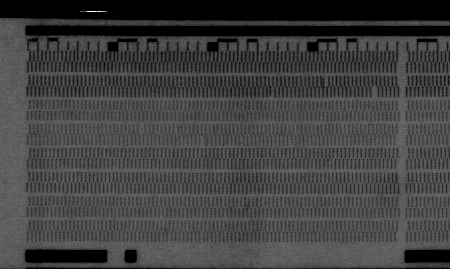Broken hole: (369, 87, 381, 99), (136, 122, 147, 135)
Oblique printing: (264, 86, 278, 100), (319, 75, 331, 90), (197, 135, 209, 148)
